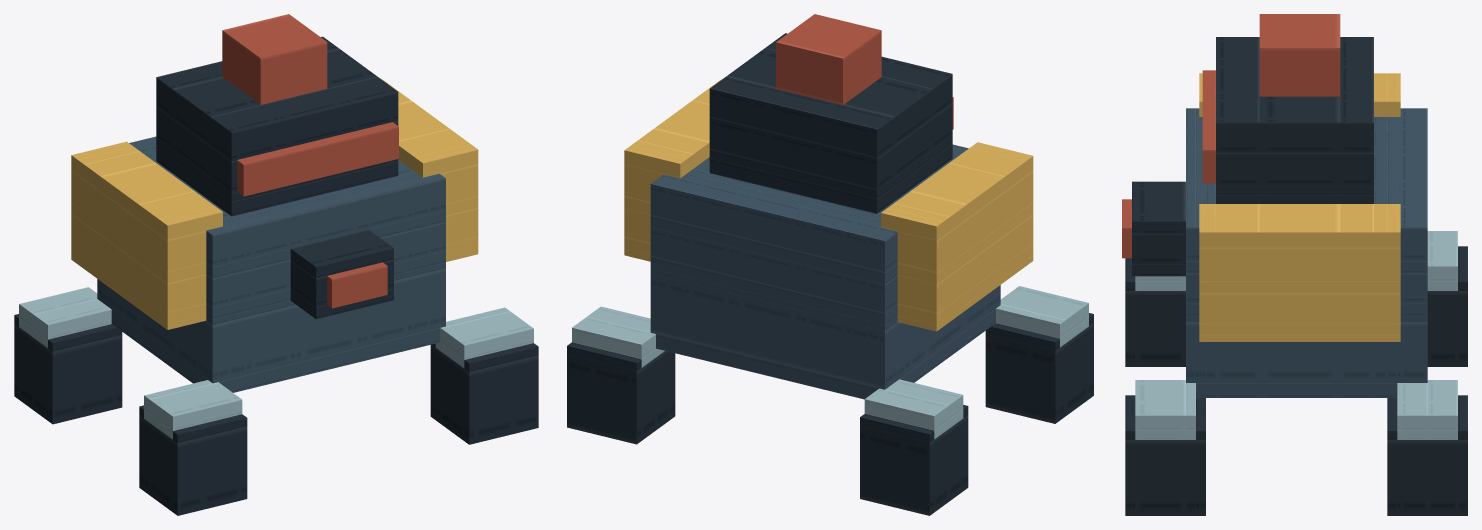
Rendered from sc_hunter.obj.
3 views of the same model, side by side, from view 1: azimuth 30°, elevation 25°; view 2: azimuth 150°, elevation 25°; view 3: azimuth 270°, elevation 25° (orthographic). The views are drawn at different scales.
Size of the model in its own units: 13 by 12.9 by 10.3.
1 material, 1 textured.
